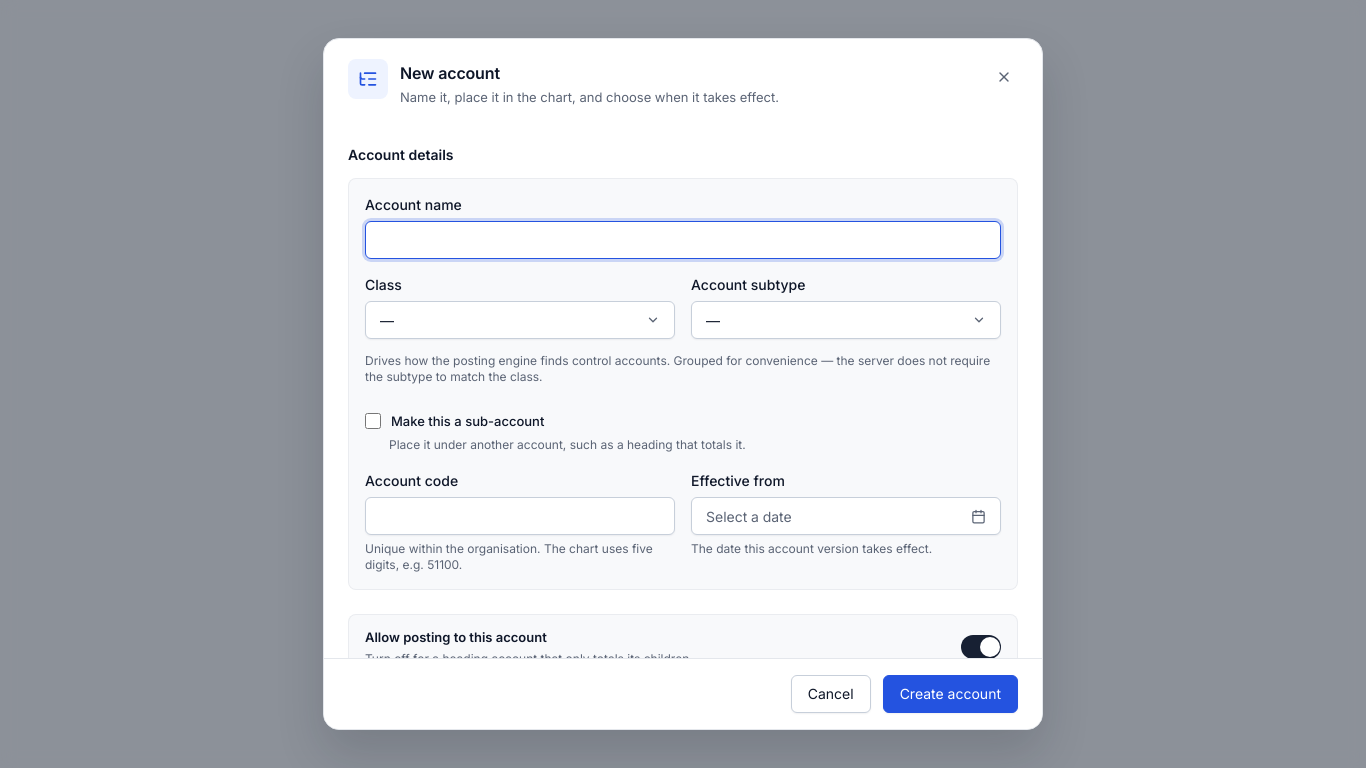
Test: CreateAccountForm › opens Advanced by itself when an answer inside it is missing
The image size is (1366, 768).
Step 1. Click the button "Create account" → point(950, 694), box top-left (883, 675), bottom-right (1018, 713)
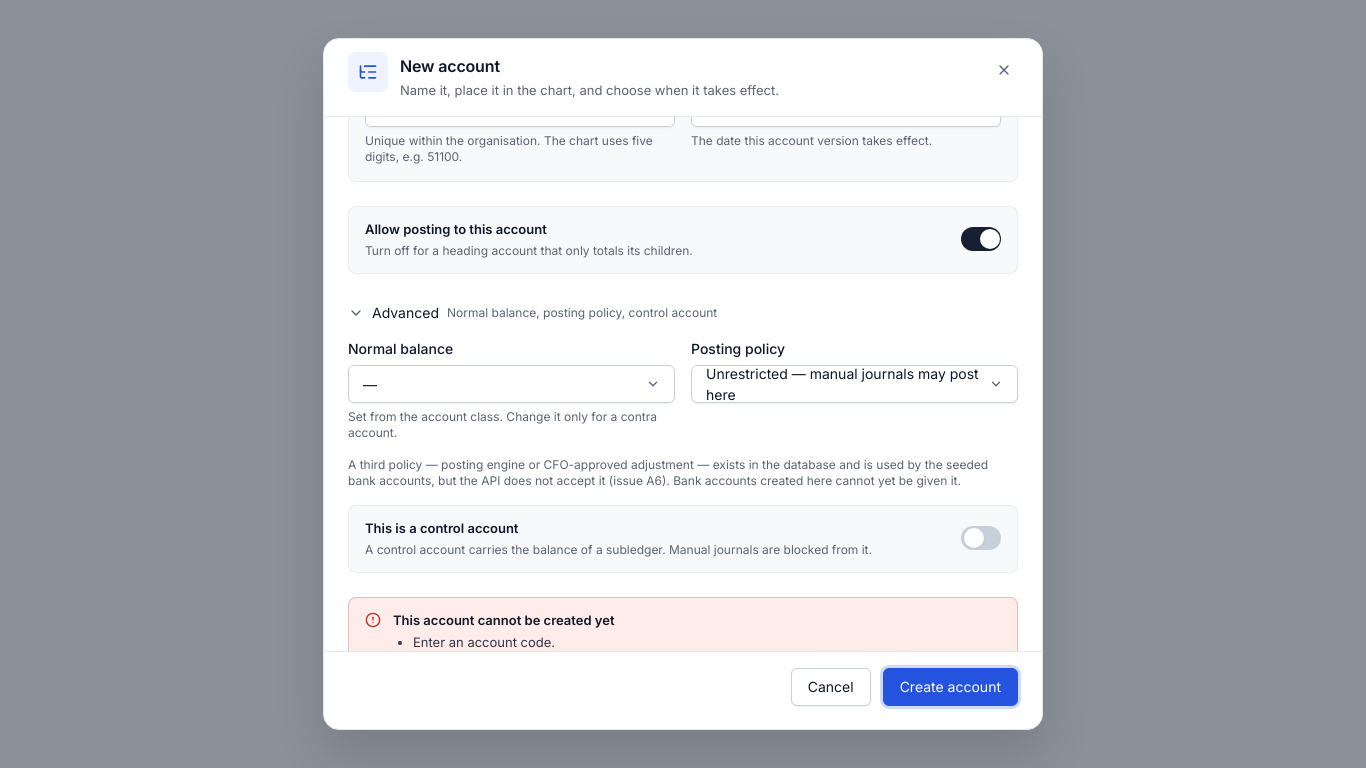
Now the dropdown named "Normal balance" is shown, box top-left (348, 365), bottom-right (675, 403)
